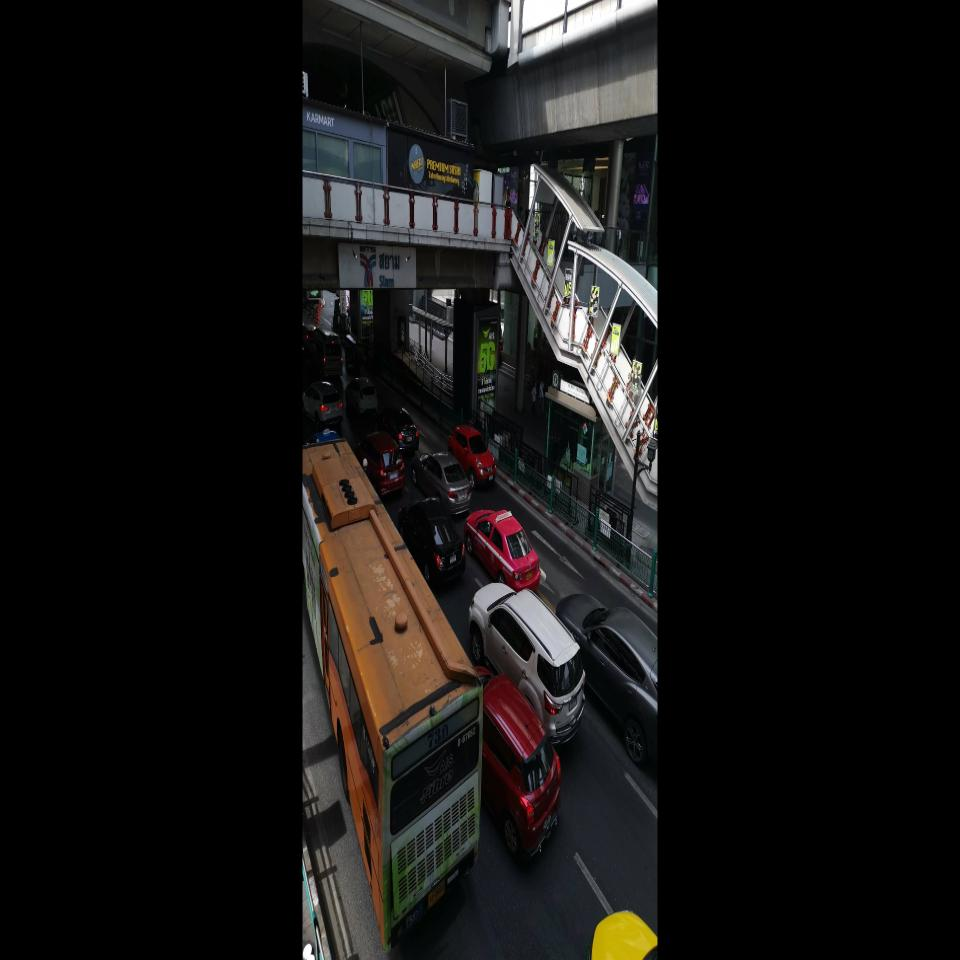signage: (359, 243, 401, 289), (378, 252, 401, 288)
